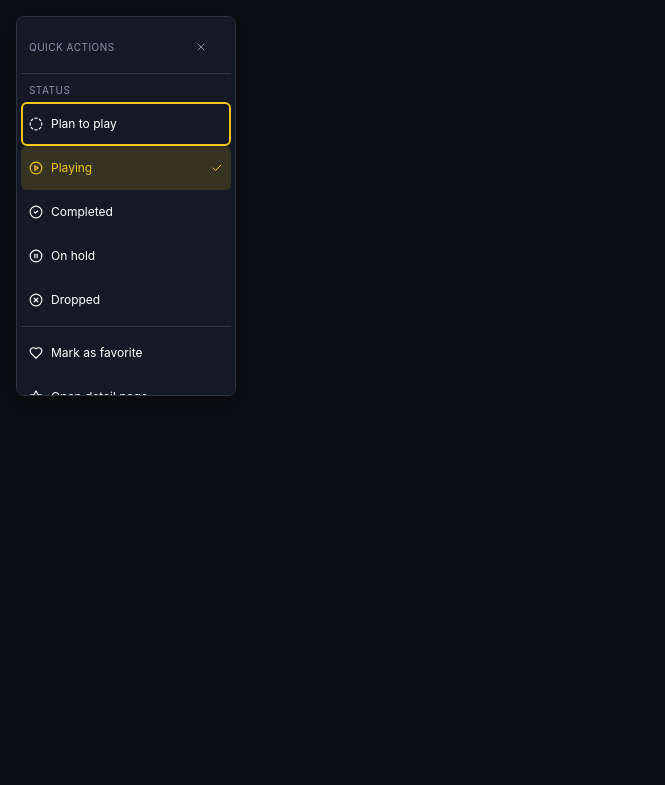
Test: CardContextMenu › rolls back the optimistic favorite and surfaces an error toast on failure
Click the menu item "Mark as favorite".
click(126, 353)  # box left=21, top=331, right=231, bottom=375
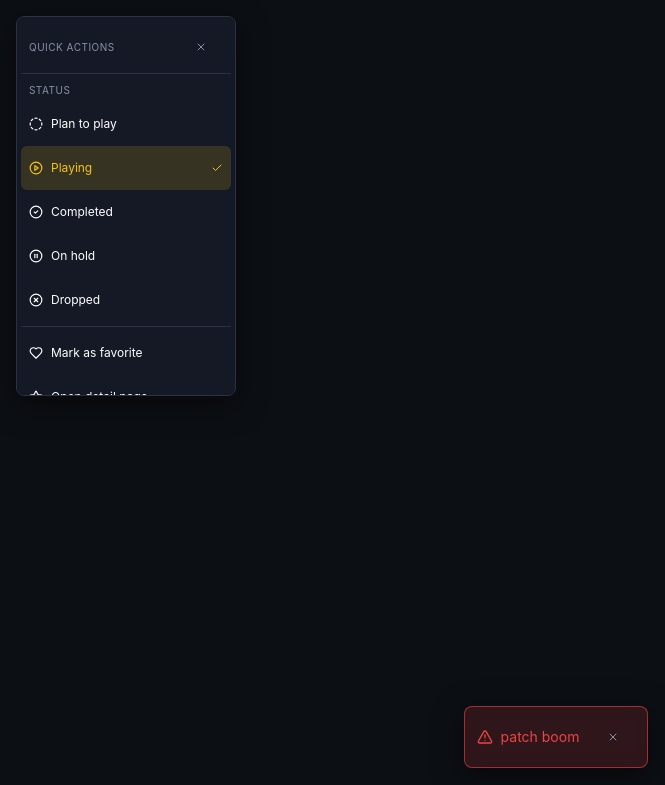
Now the text "patch boom" is shown, box left=501, top=727, right=580, bottom=747
